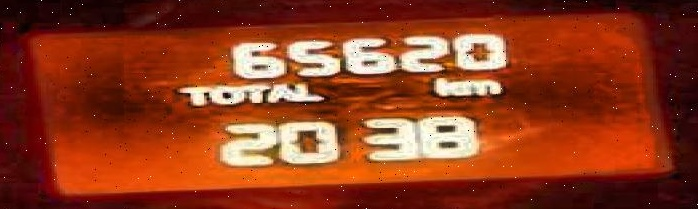0: (276, 118, 340, 163), (452, 32, 508, 68)
2: (211, 120, 273, 166), (396, 33, 449, 70)
3: (359, 114, 418, 160)
5: (286, 38, 337, 77)
6: (225, 40, 284, 77), (340, 37, 393, 73)
8: (415, 114, 482, 159)
X: (457, 77, 503, 98), (172, 82, 206, 108), (286, 82, 324, 102), (206, 83, 241, 104), (431, 75, 457, 98), (241, 81, 265, 104), (265, 83, 289, 103)
